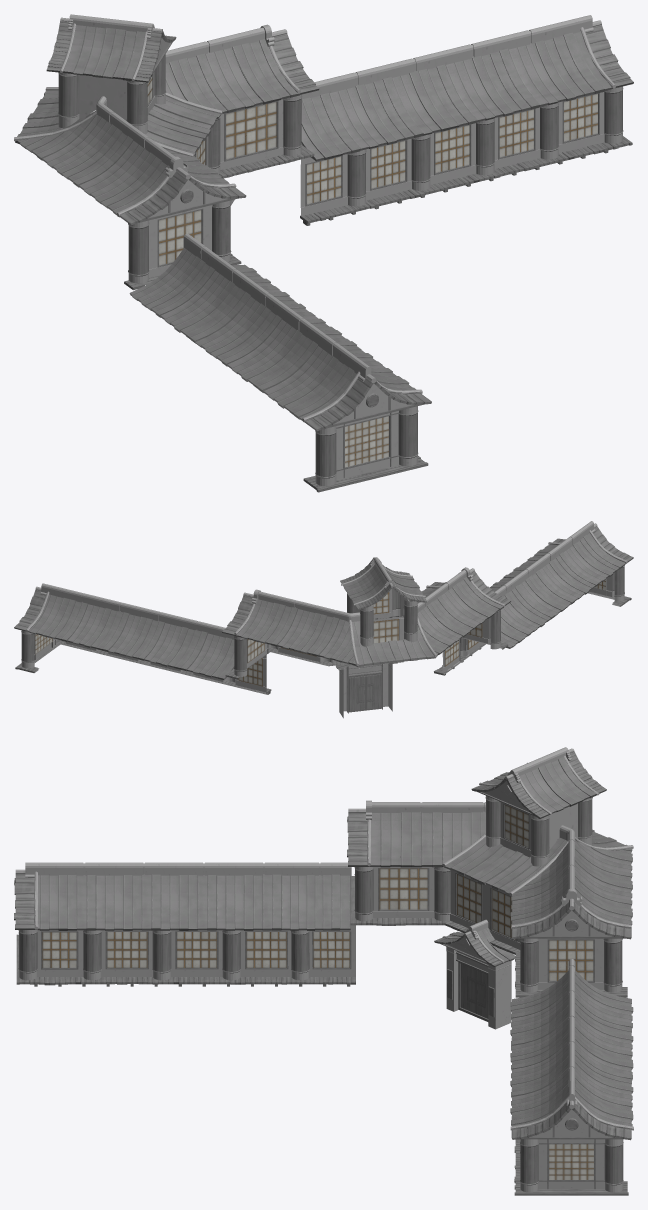
Rendered from SM_ENV_KNVLLG_AreaA_Building_B.mo.fbx.
3 renders of one model, top to bottom at view 1: azimuth 30°, elevation 25°; view 2: azimuth 150°, elevation 25°; view 3: azimuth 270°, elevation 25°, orthographic. The views are drawn at different scales.
Visible parts, largest first — view 1: SM_ENV_KNVLLG_AreaA_Building_B.mo; view 2: SM_ENV_KNVLLG_AreaA_Building_B.mo; view 3: SM_ENV_KNVLLG_AreaA_Building_B.mo.
Part boxes in pixels (x1,y1,x2,y2): SM_ENV_KNVLLG_AreaA_Building_B.mo: (14,14,633,492); SM_ENV_KNVLLG_AreaA_Building_B.mo: (14,521,633,718); SM_ENV_KNVLLG_AreaA_Building_B.mo: (14,747,633,1195).
Size of the model in its own units: 58.68 by 24.11 by 58.69.
